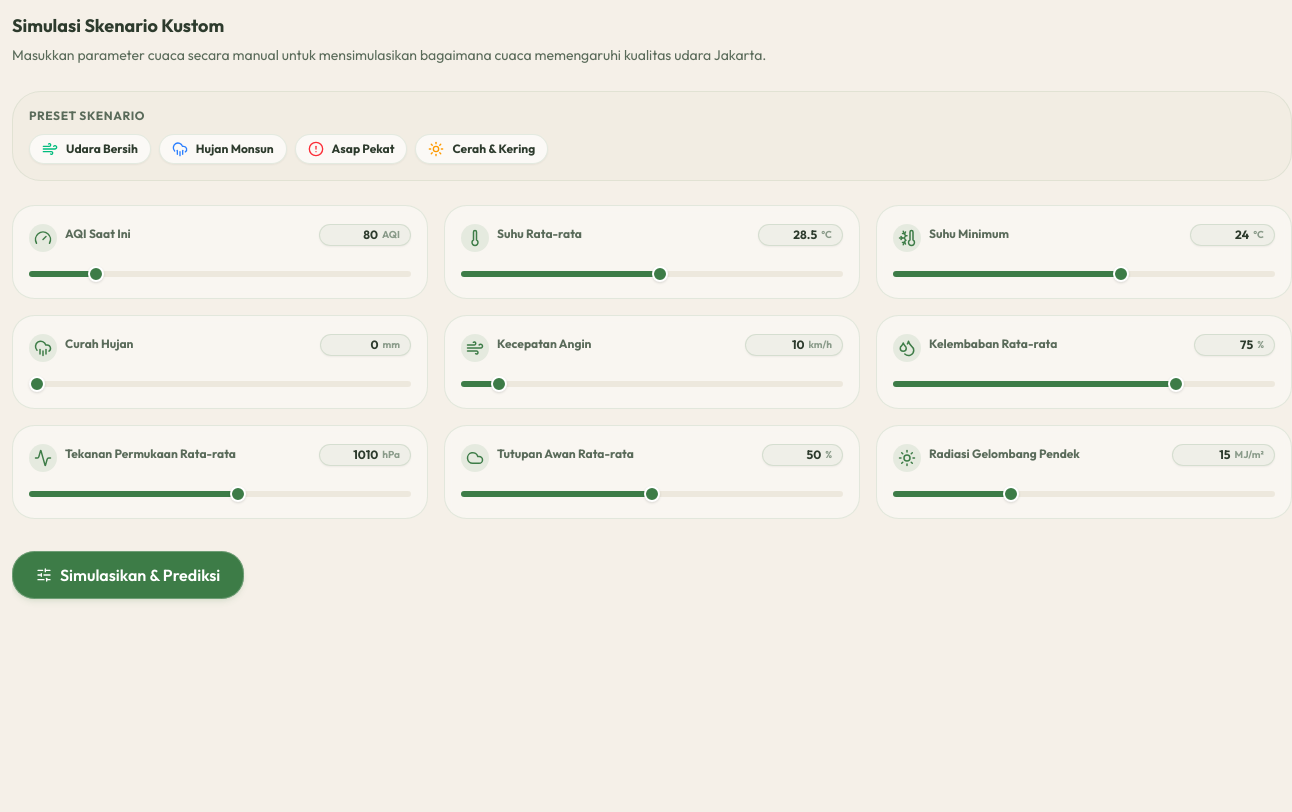
Test: ManualTab Sliders and Bidirectional Binding › renders all sliders and numeric inputs and verifies bidirectional binding
The image size is (1292, 812).
Check: the number field with id "aqi" holds "80", box [330,227,378,243]
Set the slider with id "aqi-slider" to "150": (147, 274) [29,271,411,277]
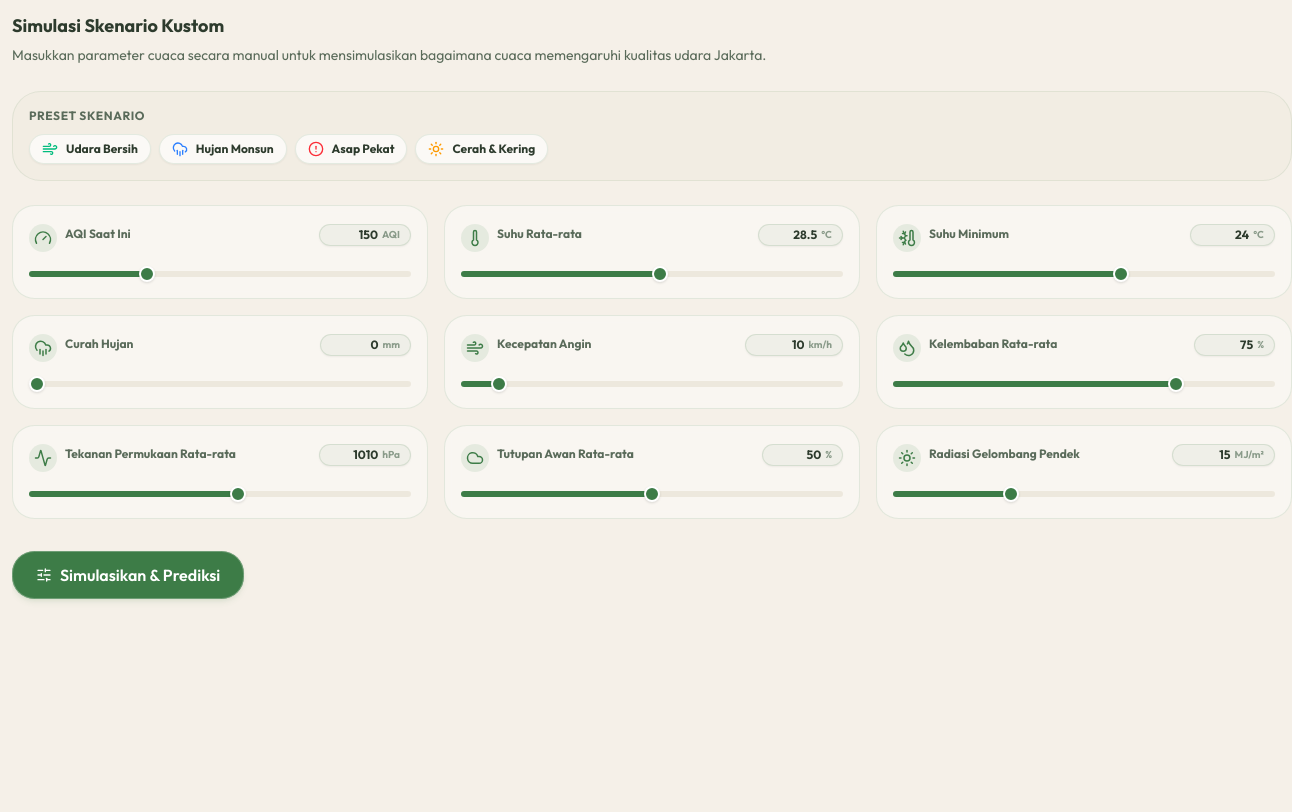
Check: the number field with id "aqi" holds "150"
// Update via numeric input and verify slider is updated
Replace the text in the number field with id "aqi" with "200": (354, 235) [330,227,378,243]
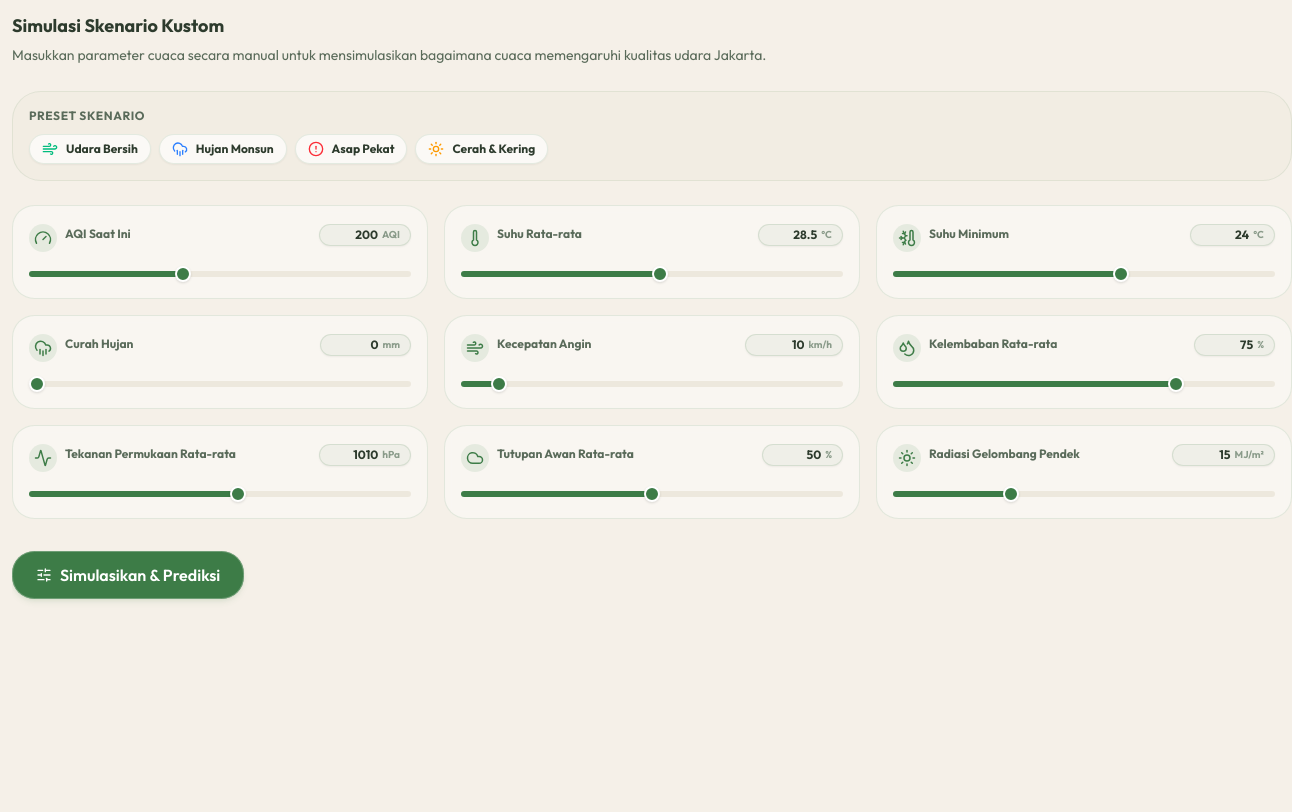
Check: the slider with id "aqi-slider" holds "200", box [29,271,411,277]
